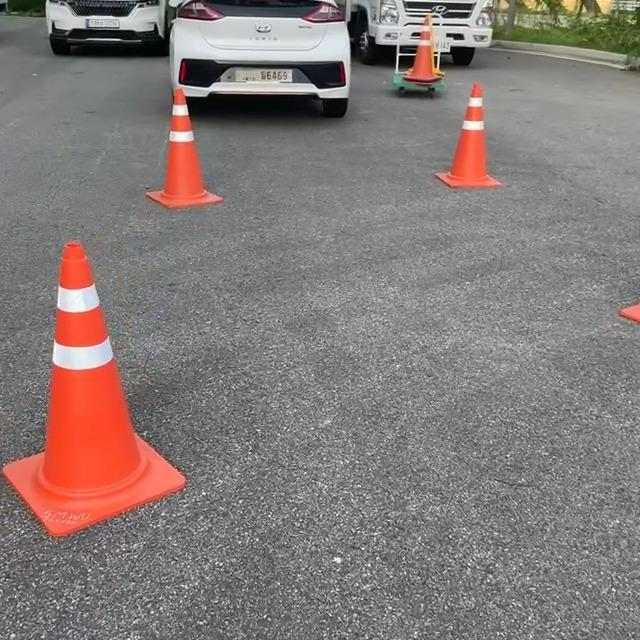fallen_object: (2, 215, 196, 553), (430, 50, 554, 218), (149, 77, 250, 226), (375, 16, 468, 83)
